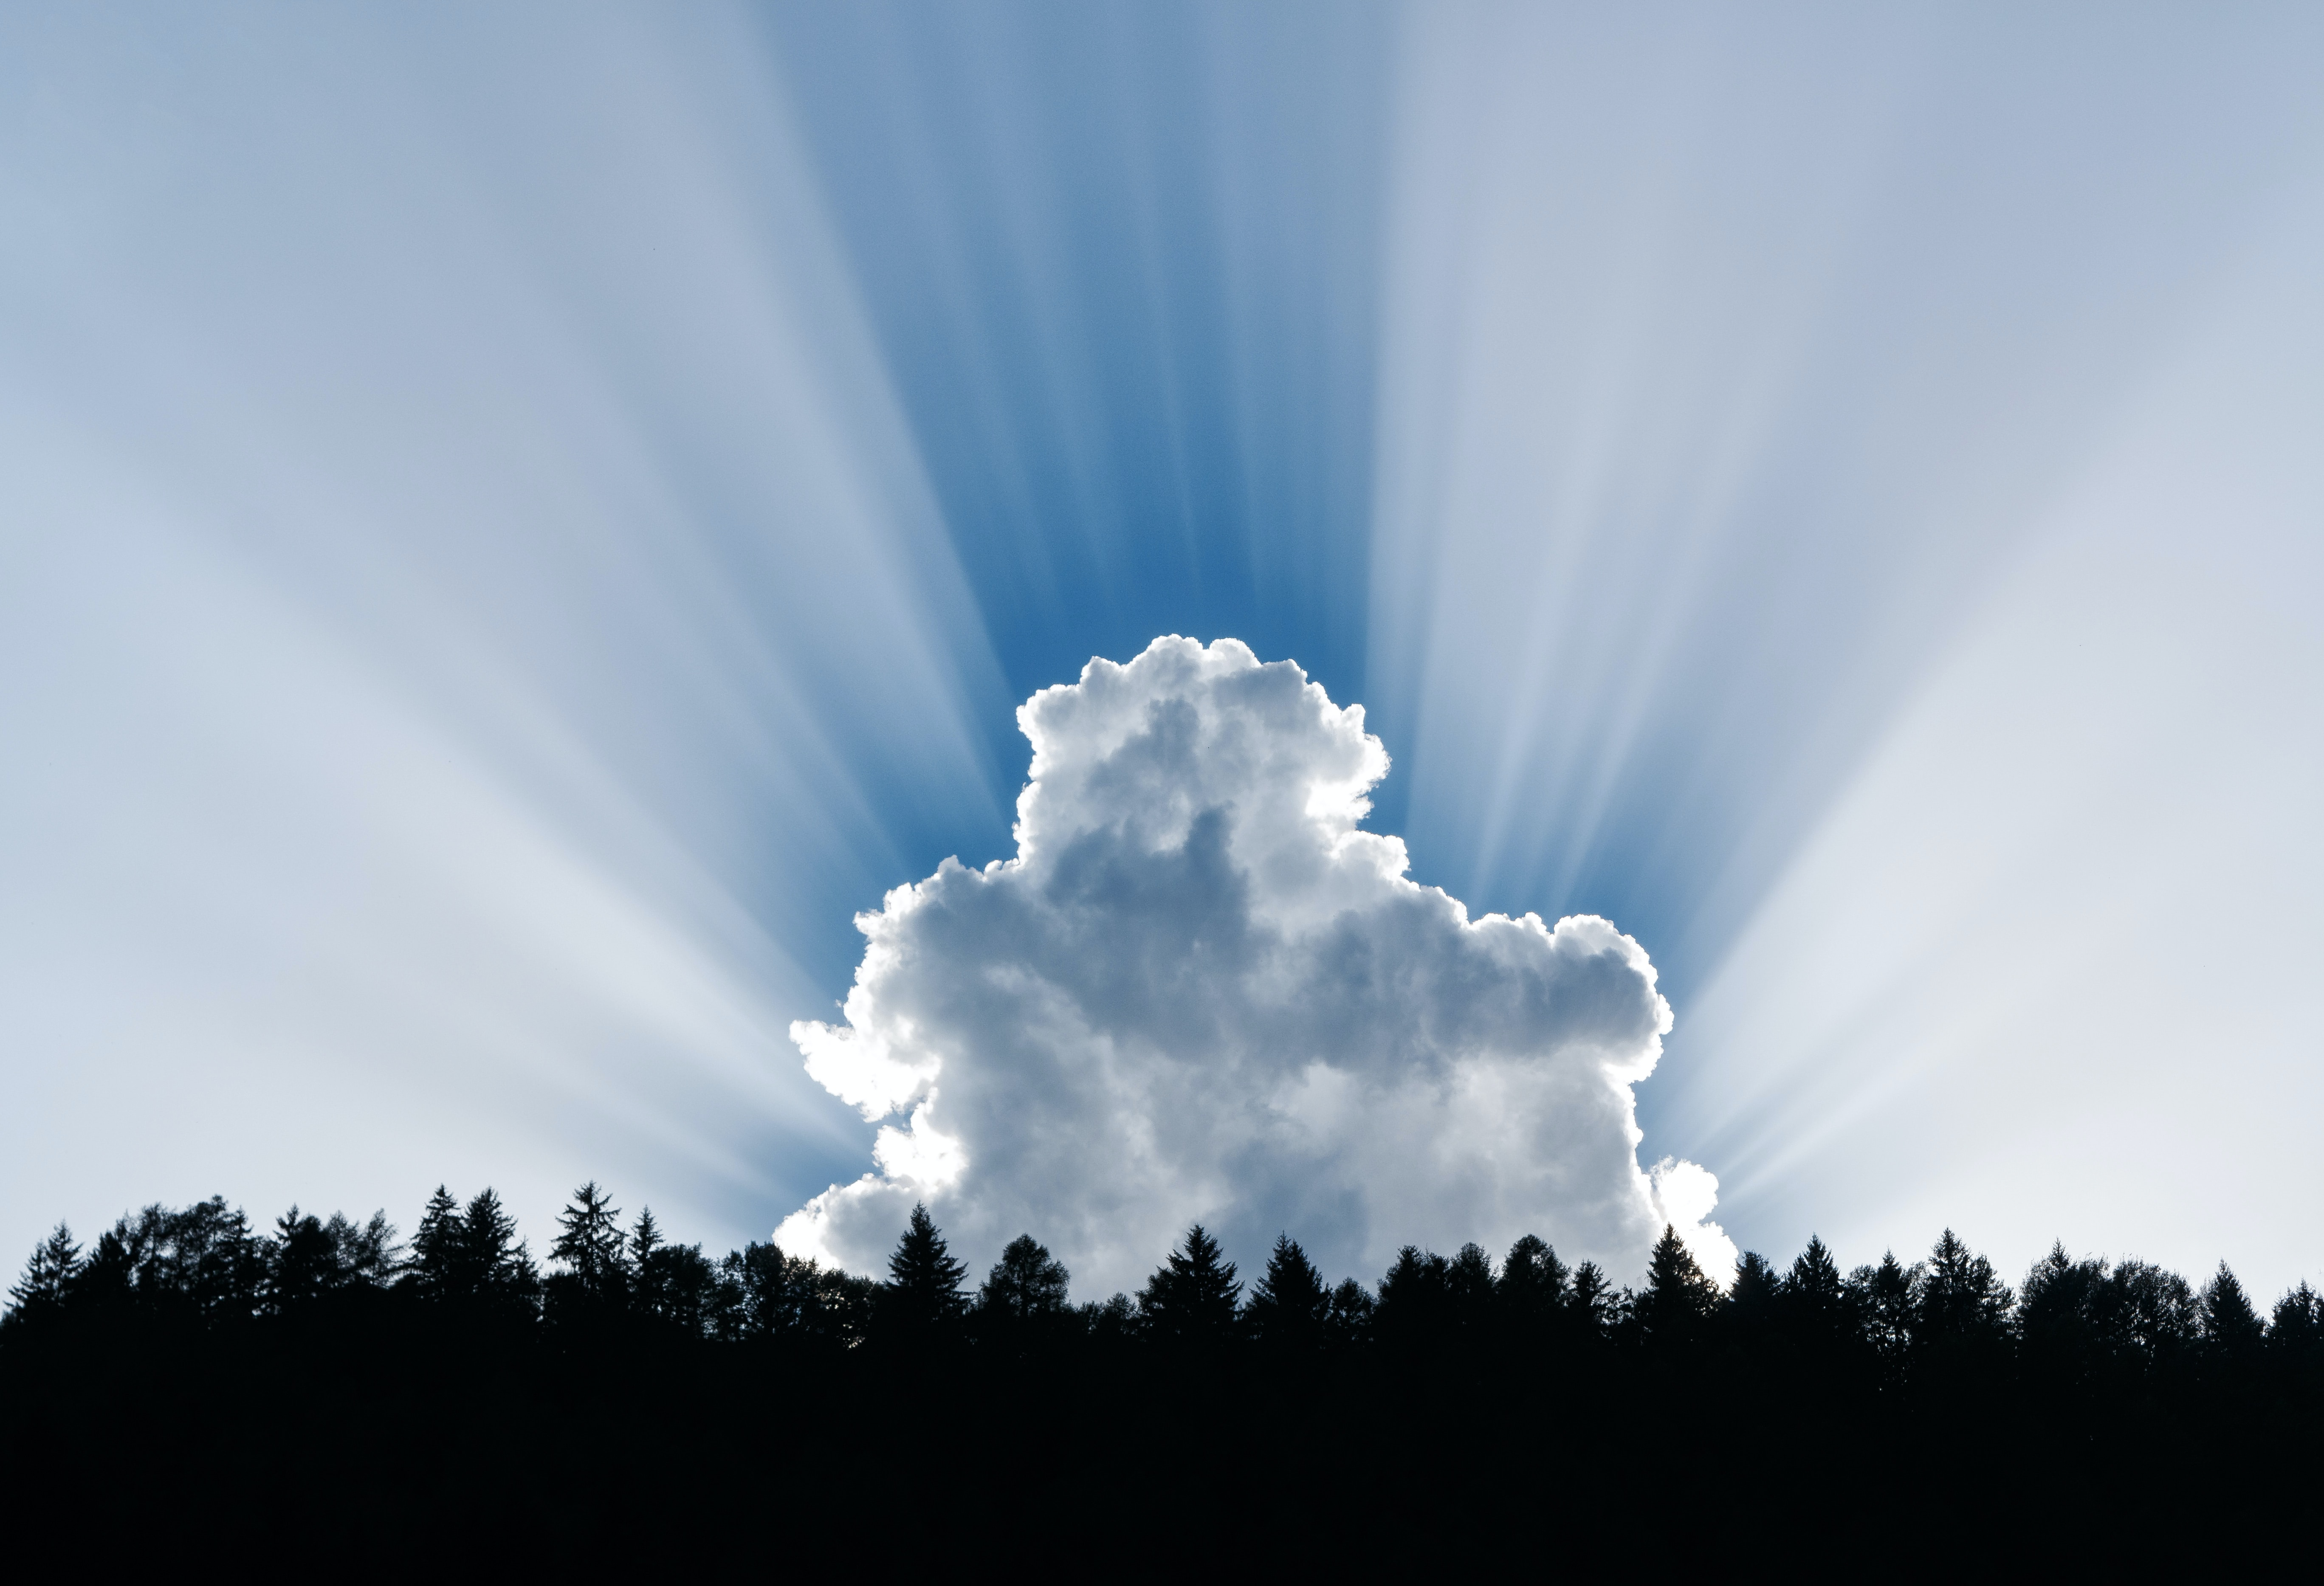Cumulus: (682, 546, 1745, 1284)
